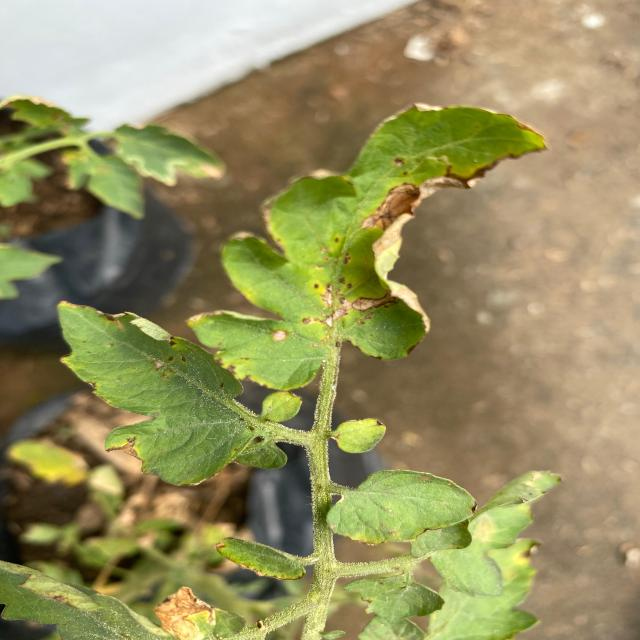Tomato_Early_Blight: (303, 153, 497, 340), (148, 576, 234, 638)
